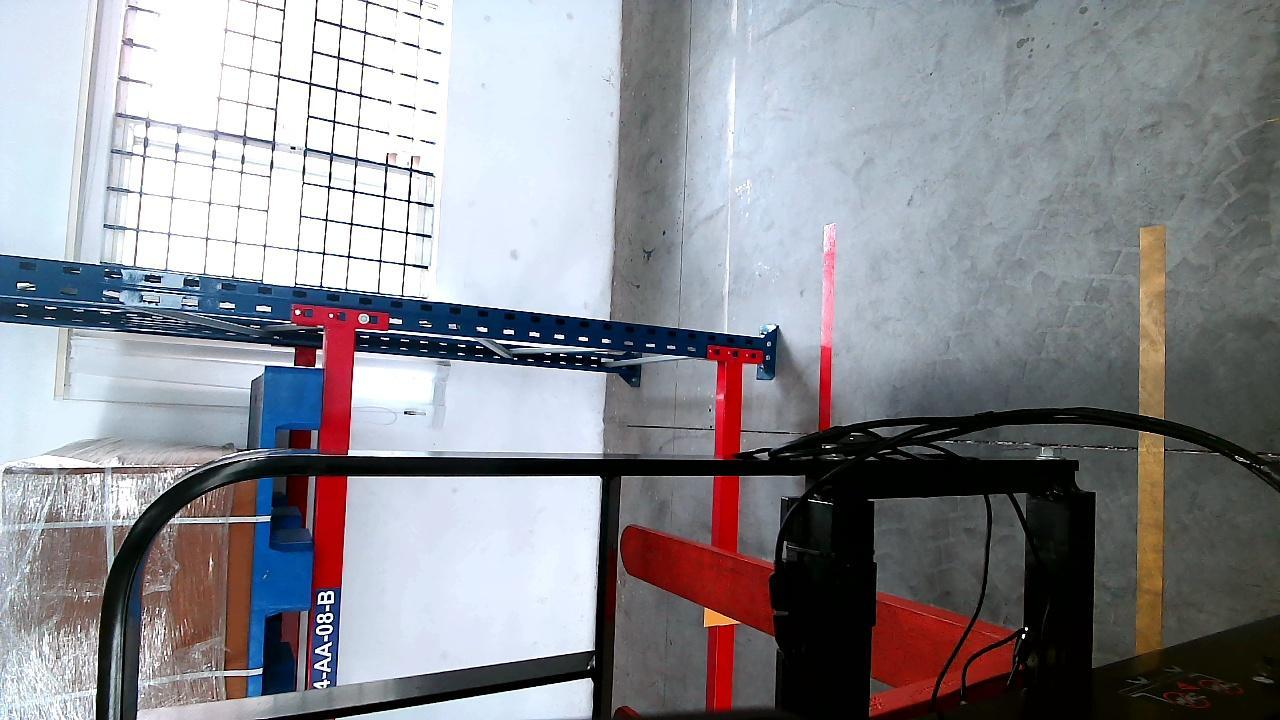red_line: (820, 226, 840, 428)
yellow_line: (1137, 228, 1164, 666)
